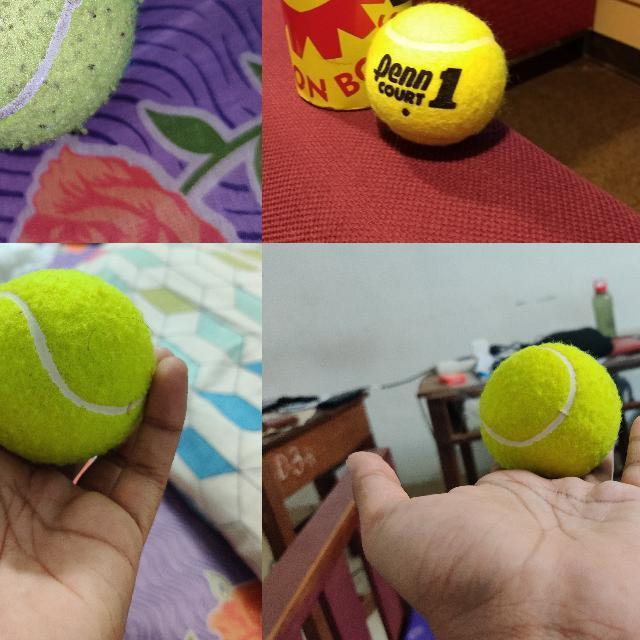tennis-ball: (0, 267, 158, 468), (0, 0, 138, 150), (365, 2, 508, 146), (478, 342, 622, 467)
